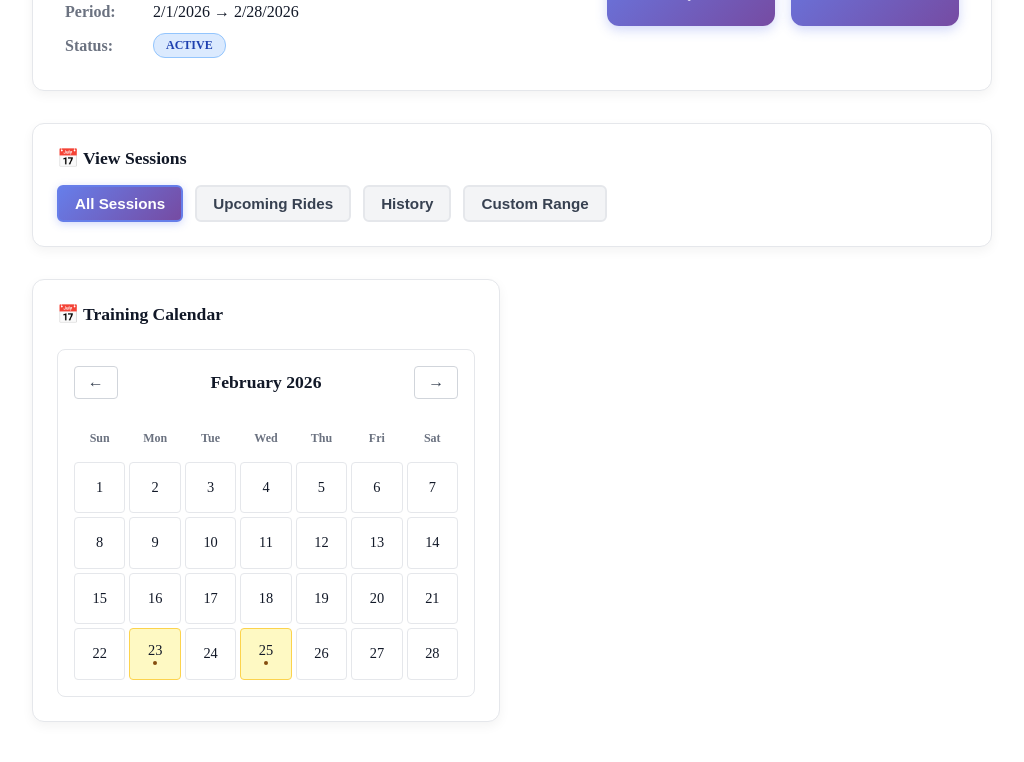
Test case: TrainingPage with Calendar › shows session details when a date is selected
(page scrolled)
Expected: the heading "📅 Training Calendar" is shown, [57,304,223,324]
Click the text "23": (155, 651) [148,642,162,659]
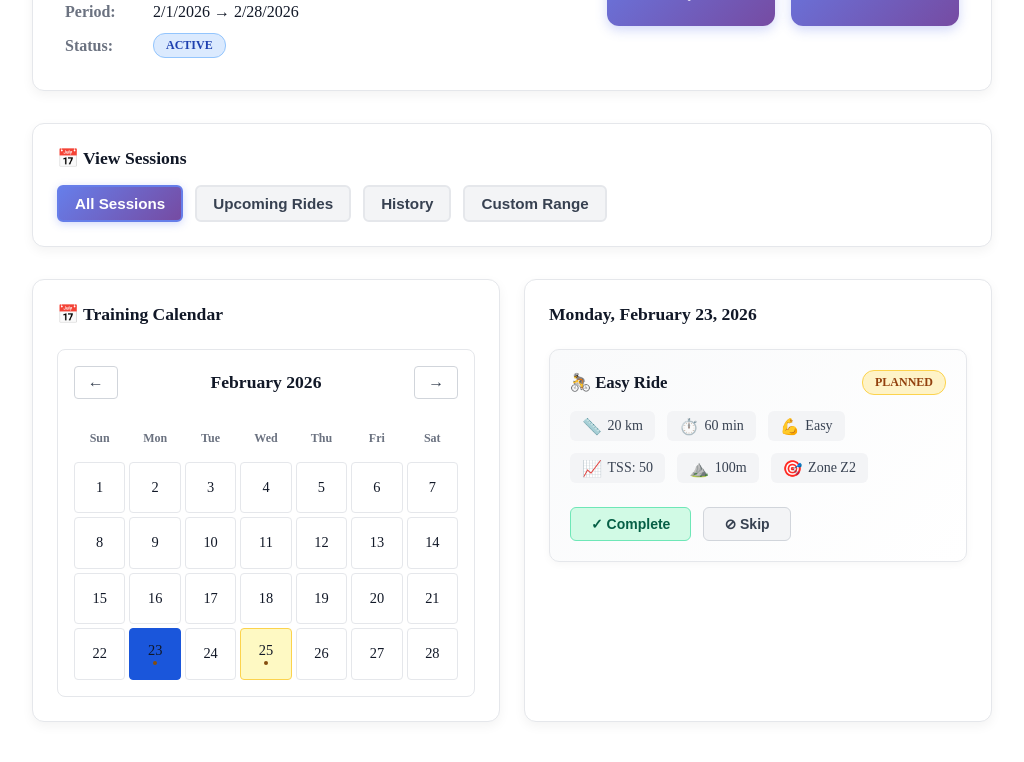
Expected: the text "🚴 Easy Ride" is shown, [570,372,667,393]
